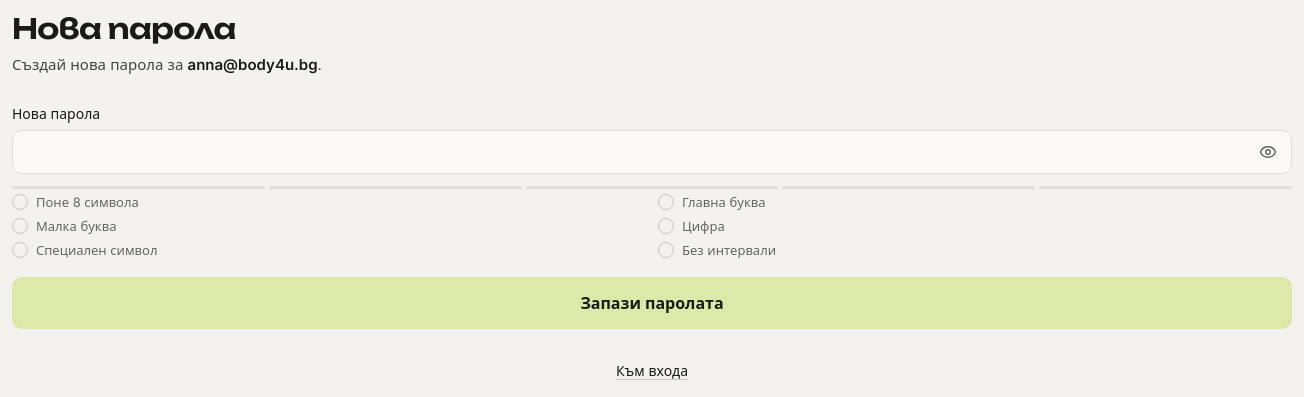
ResetPasswordPage › shows the invalid state for an expired or used link (422)
In the password field labelled "Нова парола": {"x": 652, "y": 152} [12,130,1292,174], type "NovaParola1!"
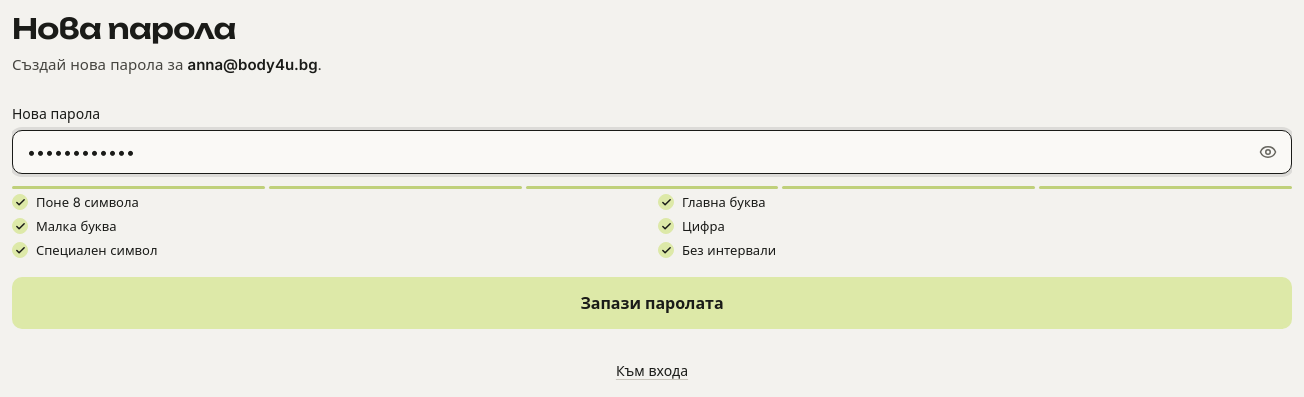
Click the button "Запази паролата": {"x": 652, "y": 303} [12,277,1292,329]
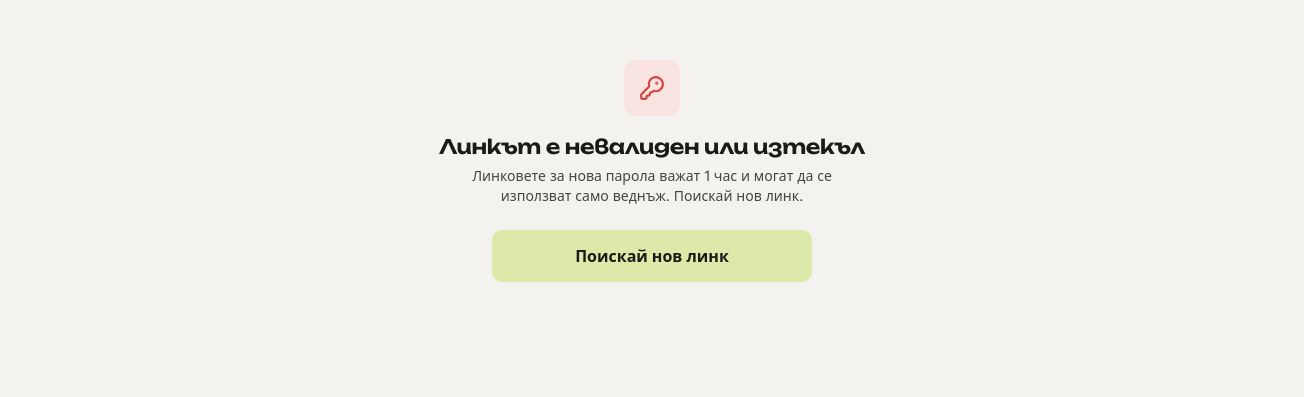
Now the heading "Линкът е невалиден или изтекъл" is shown, box [439,134,865,160]
